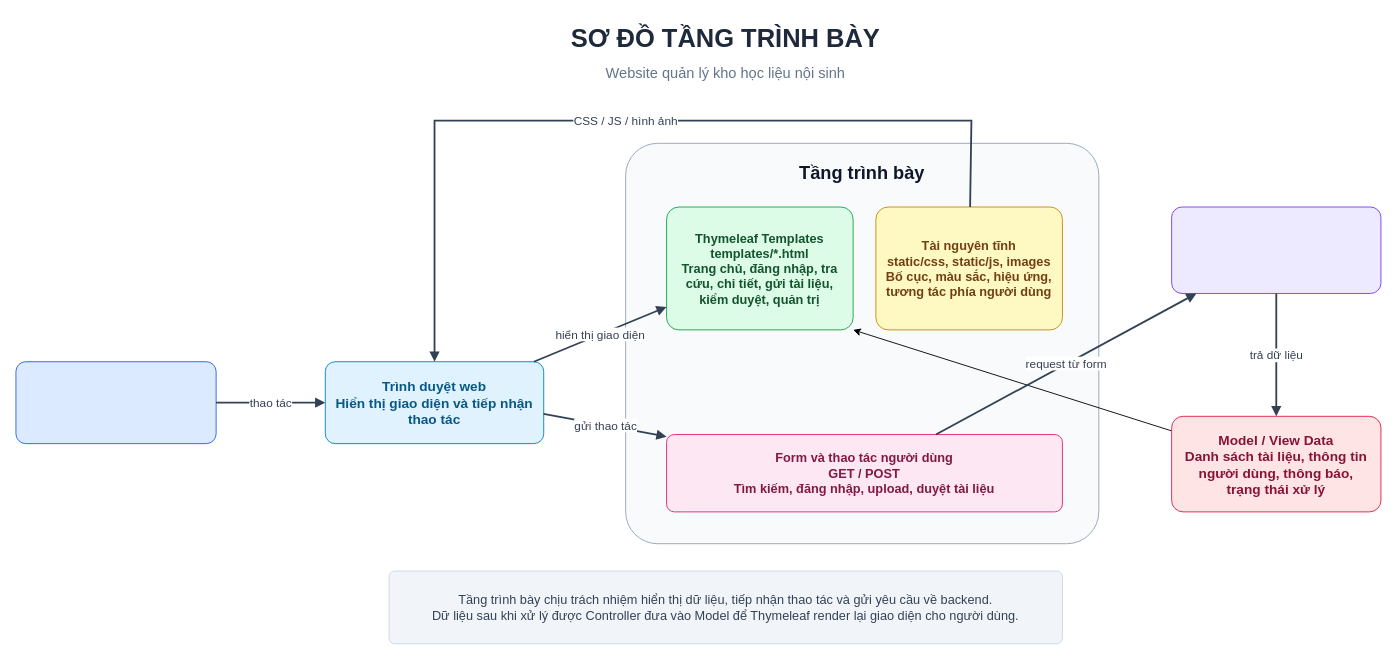
This 1397x660 diagram has some shape labels left out. The shapes that lost their labels are listed below. From the top down, each one's box as (x1, y1, x2, y2) in pixels, then its label:
(1171, 206, 1381, 293): Controller Tiếp nhận request, điều hướng, truyền dữ liệu sang view
(15, 361, 216, 444): Người dùng Khách / Người gửi / Kiểm duyệt / Quản trị
